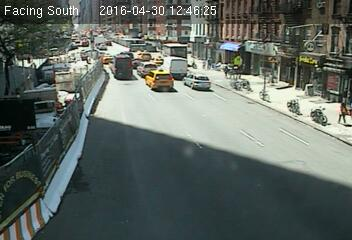neg: (284, 94, 298, 112), (256, 85, 268, 101)
pos: (333, 99, 351, 122)
